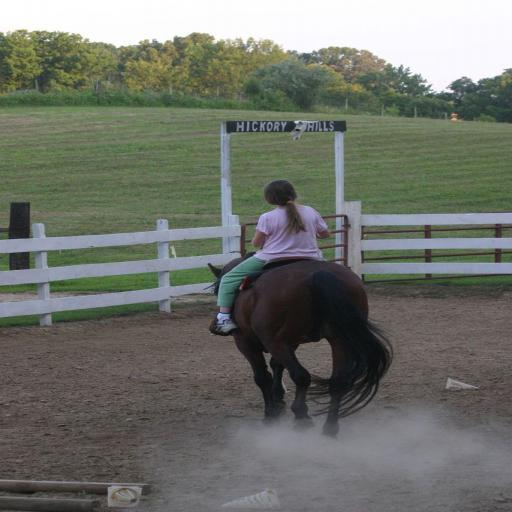horse: (204, 252, 396, 440)
